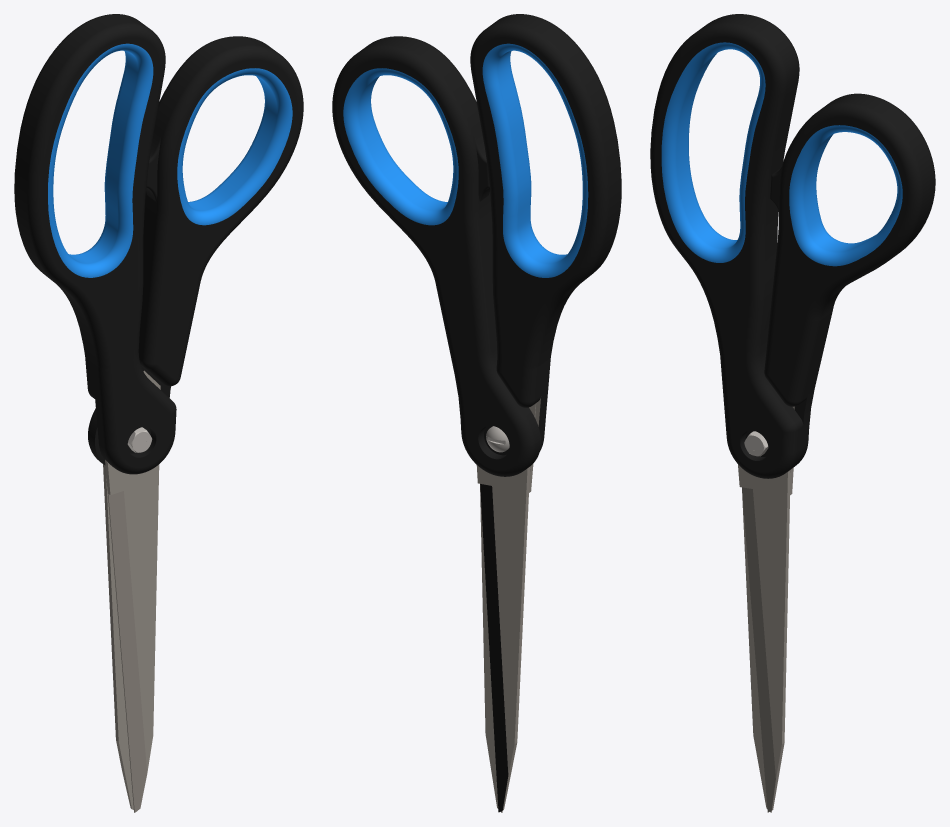
The model's file is scissor_2.obj.
The picture shows the model from 3 angles, left to right: view 1: azimuth 30°, elevation 25°; view 2: azimuth 150°, elevation 25°; view 3: azimuth 330°, elevation 25°; orthographic projection.
Parts seen in each view (by area): view 1: mesh35, mesh37, mesh128, mesh78, mesh133, mesh79, mesh54, mesh41, mesh119, mesh129, mesh42, mesh143 (+13 smaller); view 2: mesh113, mesh48, mesh47, mesh93, mesh132, mesh54, mesh91, mesh45, mesh46, mesh114, mesh108, mesh143 (+14 smaller); view 3: mesh35, mesh37, mesh128, mesh78, mesh133, mesh54, mesh79, mesh41, mesh42, mesh119, mesh143, mesh44 (+11 smaller).
Part boxes in pixels (x1=…): mesh35: x1=42, y1=37, x2=170, y2=467; mesh37: x1=27, y1=23, x2=165, y2=368; mesh128: x1=157, y1=59, x2=297, y2=378; mesh78: x1=107, y1=462, x2=159, y2=772; mesh133: x1=156, y1=45, x2=303, y2=288; mesh79: x1=108, y1=491, x2=147, y2=812; mesh54: x1=15, y1=14, x2=146, y2=366; mesh41: x1=48, y1=120, x2=141, y2=277; mesh119: x1=177, y1=140, x2=284, y2=225; mesh129: x1=142, y1=219, x2=171, y2=363; mesh42: x1=48, y1=43, x2=153, y2=198; mesh143: x1=154, y1=37, x2=275, y2=148; mesh113: x1=338, y1=59, x2=520, y2=469; mesh48: x1=470, y1=23, x2=609, y2=372; mesh47: x1=476, y1=37, x2=593, y2=400; mesh93: x1=476, y1=465, x2=527, y2=774; mesh132: x1=332, y1=45, x2=479, y2=288; mesh54: x1=489, y1=14, x2=620, y2=366; mesh91: x1=480, y1=484, x2=508, y2=812; mesh45: x1=482, y1=43, x2=571, y2=216; mesh46: x1=503, y1=109, x2=588, y2=277; mesh114: x1=354, y1=135, x2=458, y2=225; mesh108: x1=464, y1=220, x2=492, y2=353; mesh143: x1=360, y1=37, x2=481, y2=148; mesh35: x1=655, y1=37, x2=782, y2=471; mesh37: x1=650, y1=22, x2=786, y2=357; mesh128: x1=770, y1=116, x2=908, y2=399; mesh78: x1=738, y1=464, x2=787, y2=777; mesh133: x1=778, y1=102, x2=922, y2=321; mesh54: x1=697, y1=14, x2=797, y2=353; mesh79: x1=742, y1=487, x2=775, y2=812; mesh41: x1=661, y1=126, x2=754, y2=262; mesh42: x1=661, y1=42, x2=765, y2=161; mesh119: x1=789, y1=169, x2=895, y2=266; mesh143: x1=820, y1=94, x2=933, y2=319; mesh44: x1=676, y1=118, x2=736, y2=248.
Size of the model in its own units: 0.0573 by 0.1587 by 0.008.
